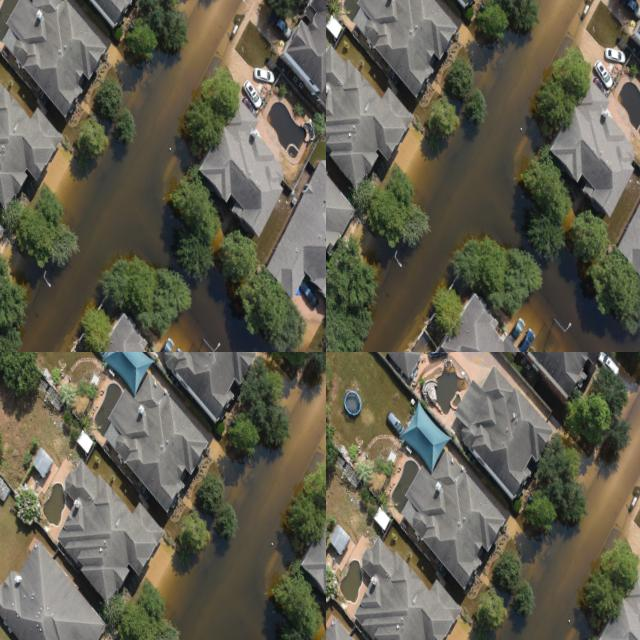fire: (491, 395, 640, 640)
